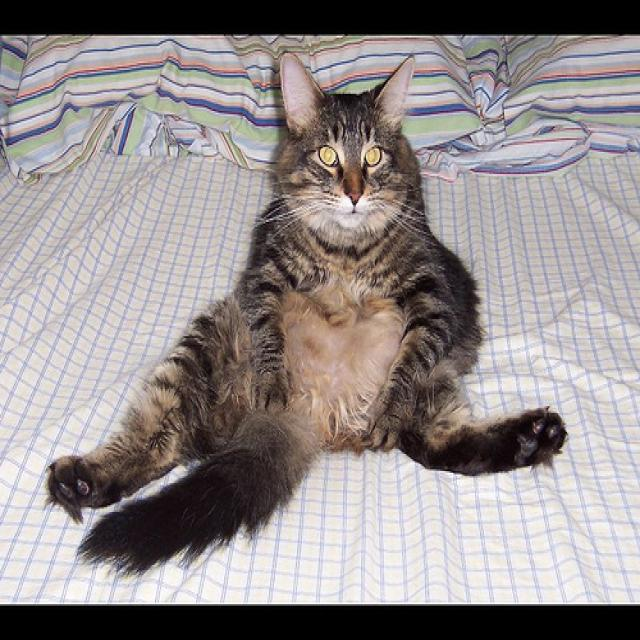cat: (222, 59, 560, 464)
